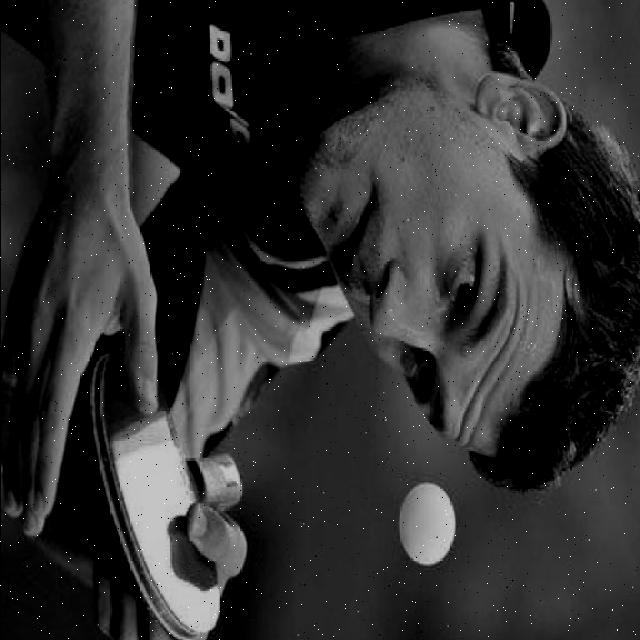ping-pong-ball: (396, 482, 454, 569)
